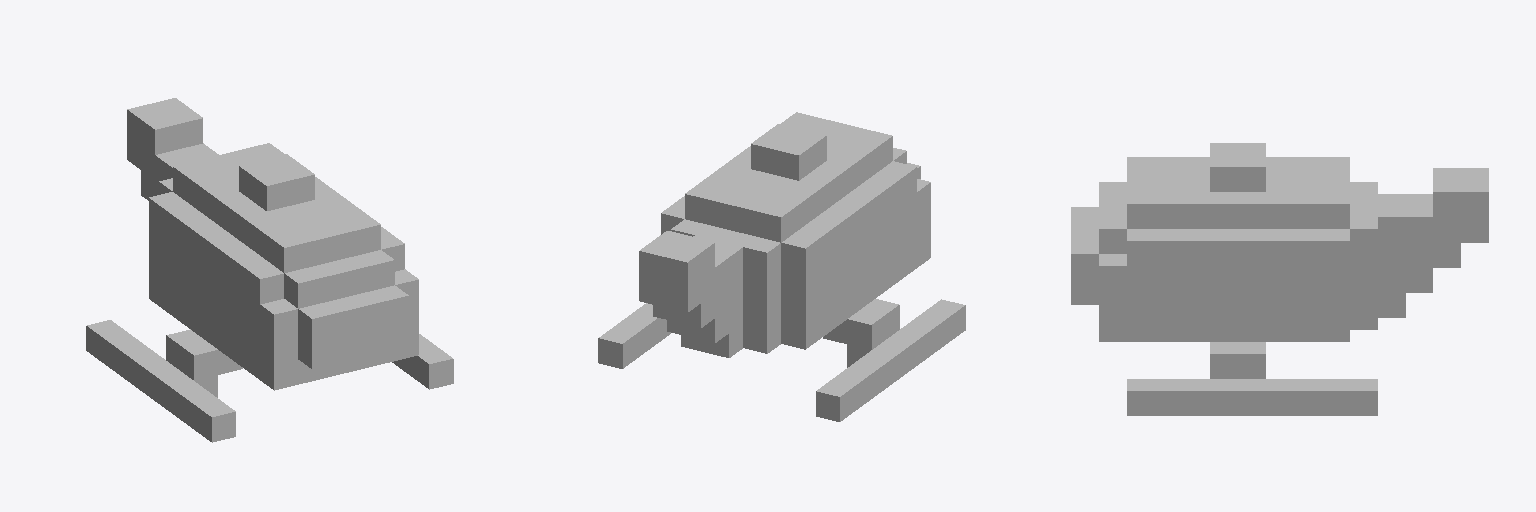
File: heli.obj
3 views of the same model, side by side, from view 1: azimuth 30°, elevation 25°; view 2: azimuth 150°, elevation 25°; view 3: azimuth 270°, elevation 25° (orthographic).
Size of the model in its own units: 10 by 8 by 15.